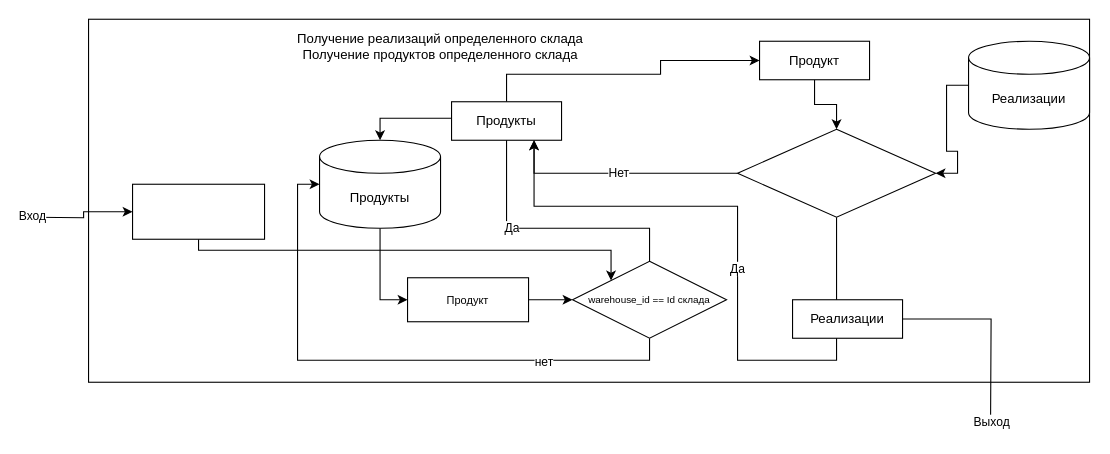
This 1110x454 diagram has some shape labels left out. Here are the shapes that lost their labels. From the top down, the centre of each, then its label:
the point at 836,172: realizations.product_id == Продукт id
the point at 198,211: Id склада
